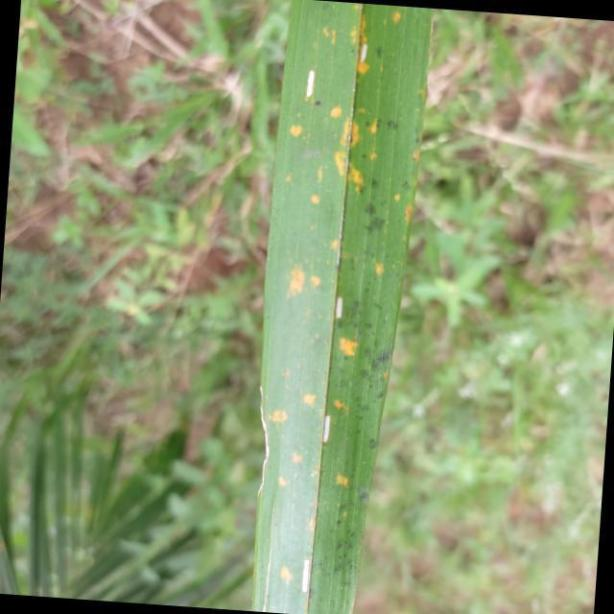Kalium: (254, 0, 435, 614)
